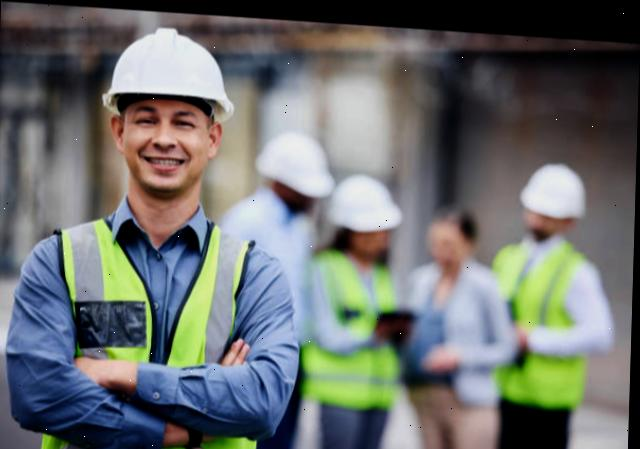helmet: (522, 157, 582, 208)
